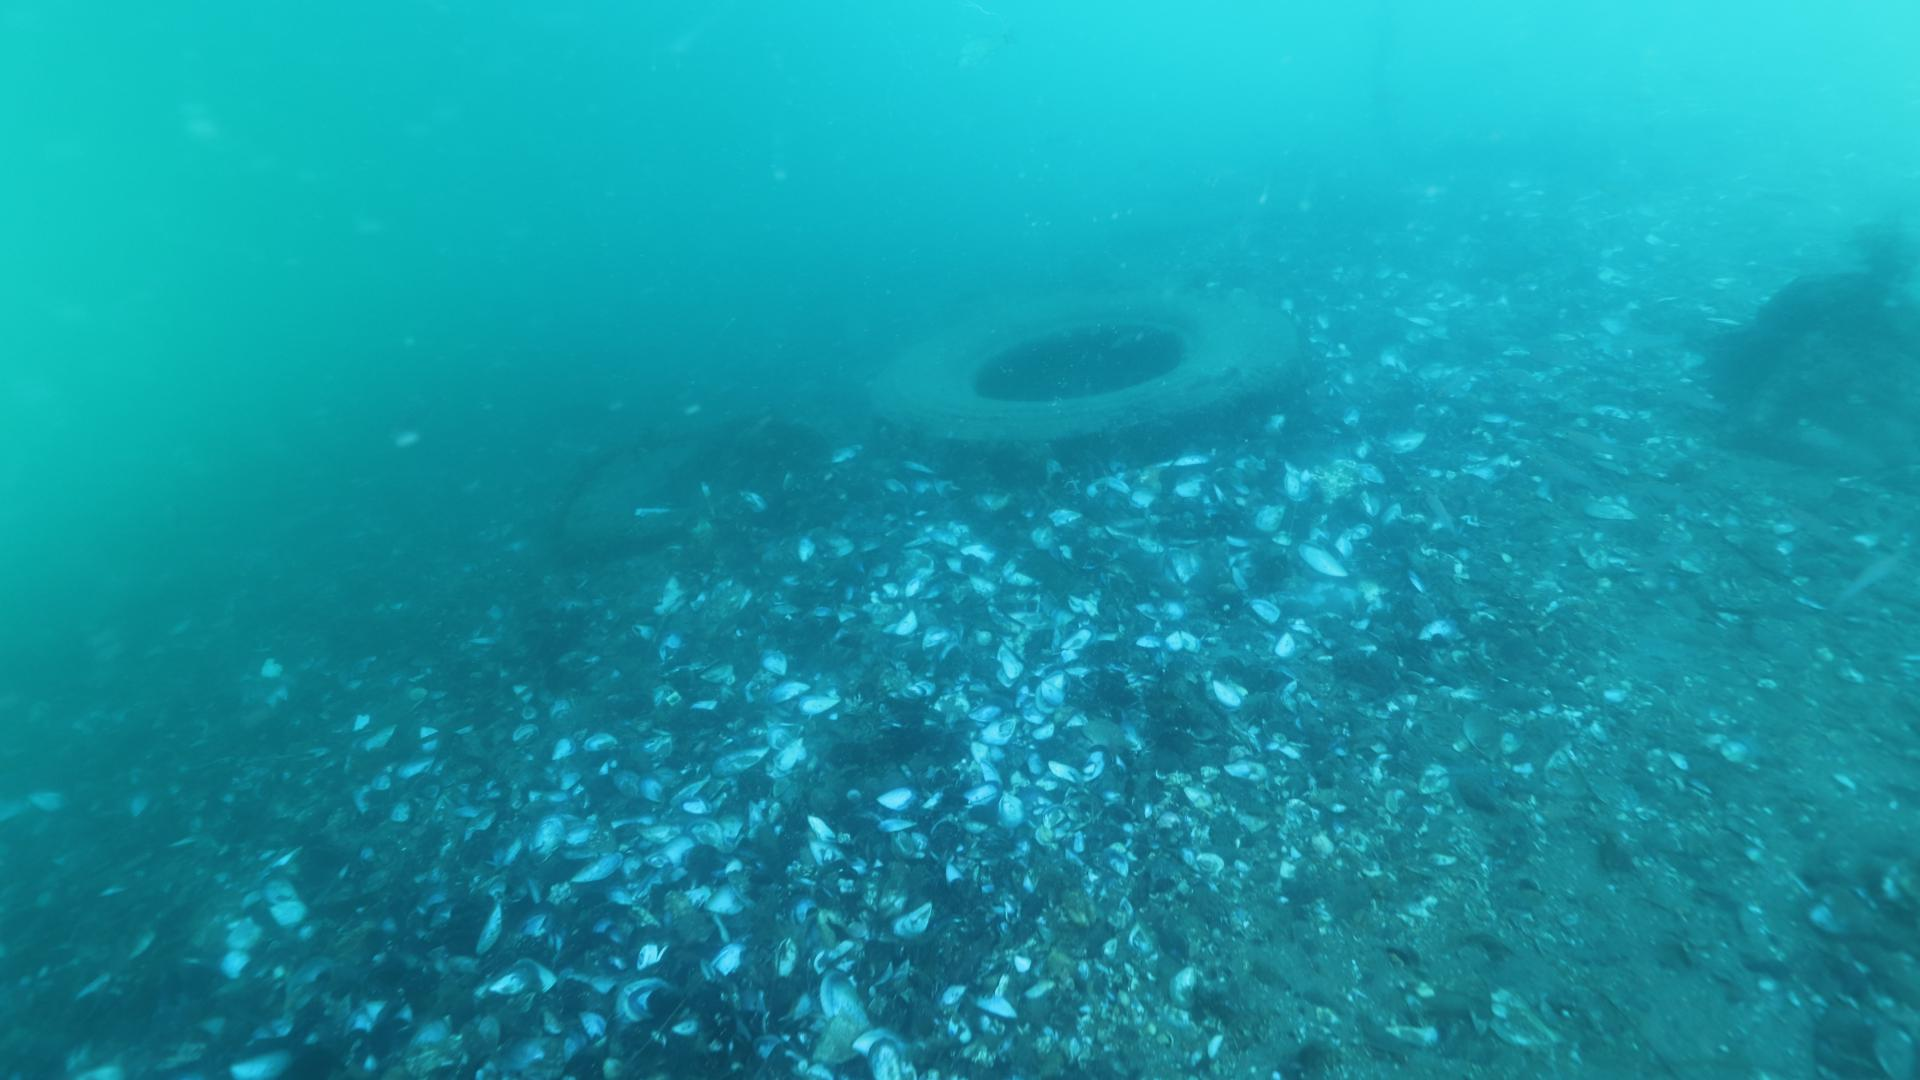tire: (866, 291, 1305, 473)
